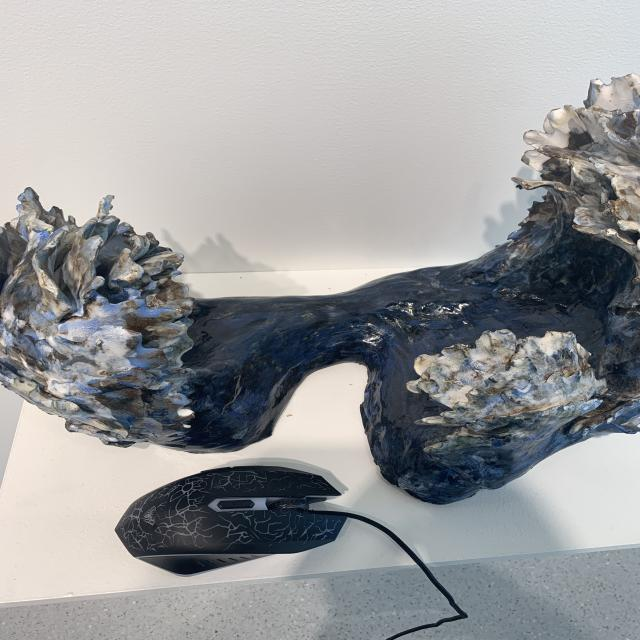Mouse: (104, 460, 373, 582)
